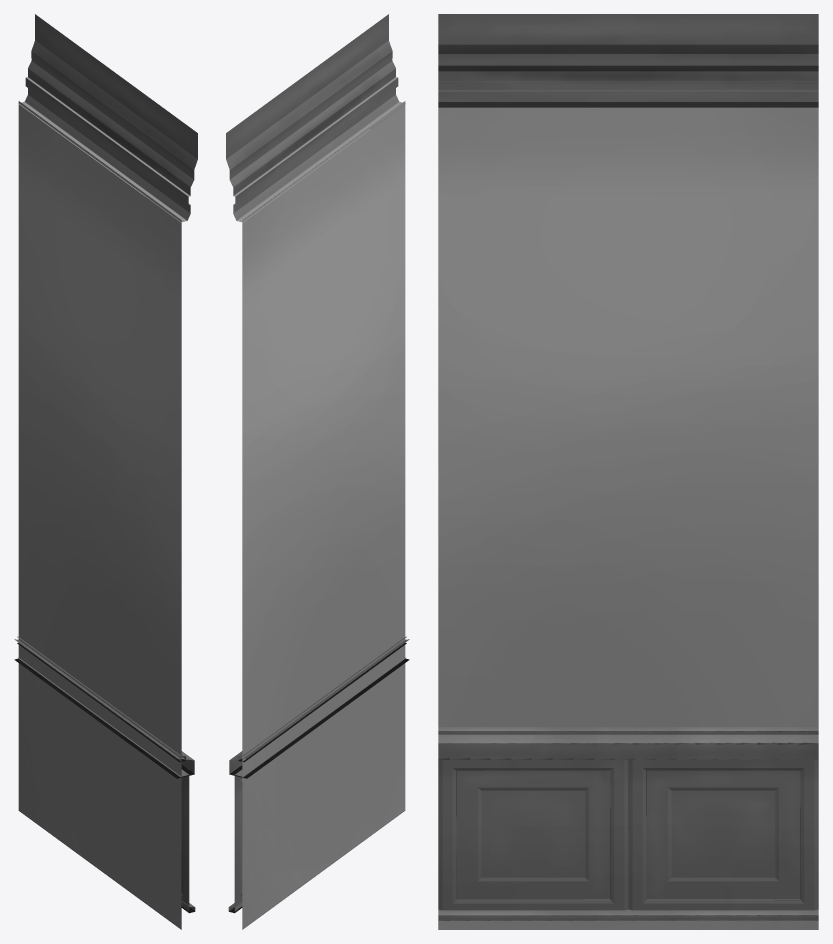
File: Wall_PanelStandard.fbx
3 renders of one model, left to right at view 1: azimuth 30°, elevation 25°; view 2: azimuth 150°, elevation 25°; view 3: azimuth 270°, elevation 25°, orthographic. The views are drawn at different scales.
Visible parts, largest first — view 1: Wall_PanelStandard; view 2: Wall_PanelStandard; view 3: Wall_PanelStandard.
Boxes of the visible parts, bbox=[...] form: Wall_PanelStandard: bbox=[14, 14, 197, 929]; Wall_PanelStandard: bbox=[226, 14, 409, 929]; Wall_PanelStandard: bbox=[438, 14, 818, 929].
Size of the model in its own units: 14.97 by 540 by 201.
Materials: 2 (2 with a texture image).
